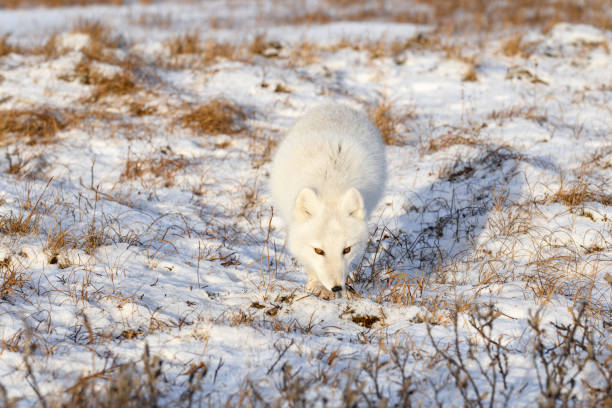arcticfox: (305, 212, 349, 289)
